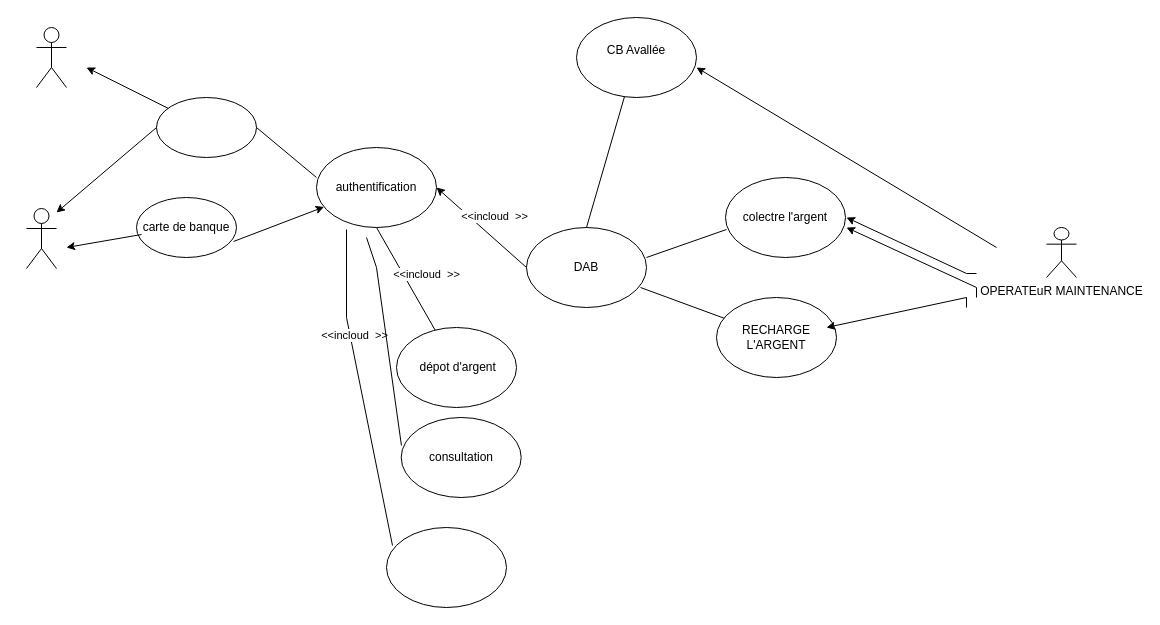
Some shapes in this 1160 by 625 pixel diagram are drawn without their labels. The shapes that lost their labels are listed below. From the top down, each one's centre as x and y in pixels, then its label:
At pixel 51 57: "porteur carte".
At pixel 206 127: "carte visa".
At pixel 41 238: "Client".
At pixel 446 567: "Dépôt de chèque".
